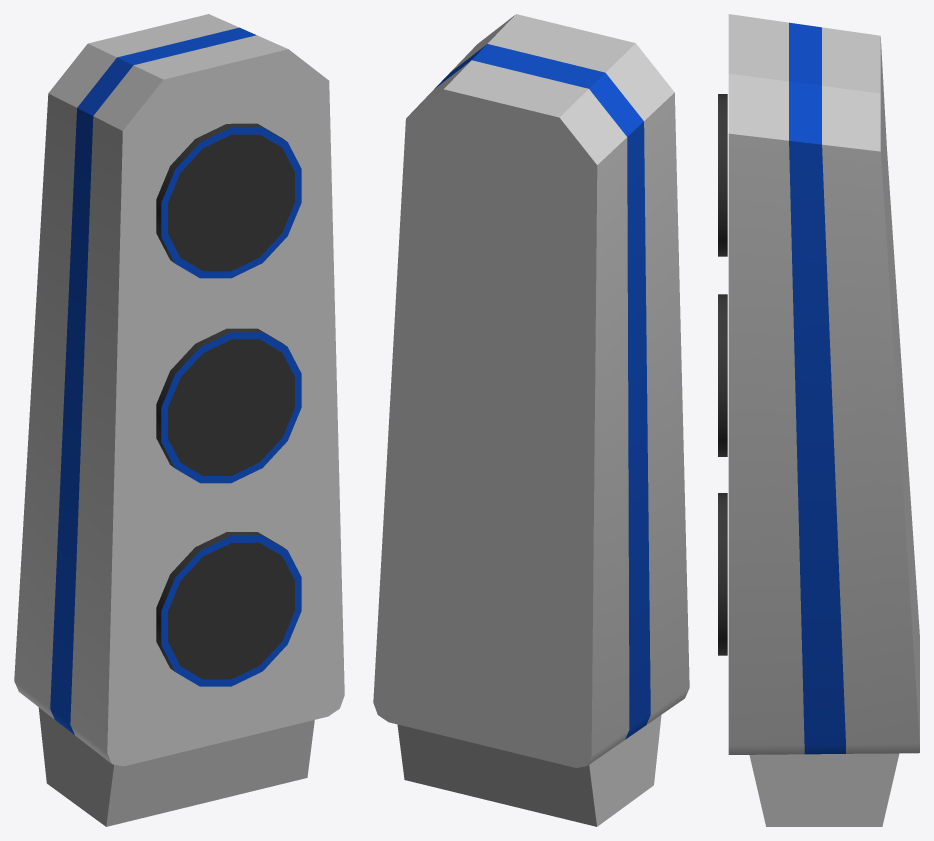
Rendered from Speaker_4.obj.
3 views of the same model, side by side, from view 1: azimuth 30°, elevation 25°; view 2: azimuth 150°, elevation 25°; view 3: azimuth 270°, elevation 25° (orthographic). The views are drawn at different scales.
Visible parts, largest first — view 1: Speaker_4; view 2: Speaker_4; view 3: Speaker_4.
Boxes of the visible parts, x1=… form: Speaker_4: x1=14, y1=14, x2=344, y2=826; Speaker_4: x1=373, y1=14, x2=689, y2=826; Speaker_4: x1=718, y1=14, x2=919, y2=826.
Bounding box in the file's own units: 0.0906 × 0.2743 × 0.0682.
